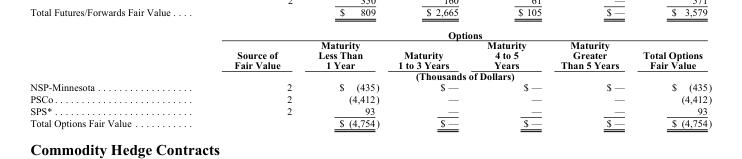table: (29, 28, 711, 127)
table column: (29, 28, 182, 127), (182, 28, 304, 127), (387, 28, 471, 127), (304, 28, 387, 127), (550, 28, 633, 127), (471, 28, 550, 127), (633, 28, 711, 127)
table column header: (29, 28, 711, 81)
table row: (29, 39, 711, 70), (29, 92, 711, 104), (29, 104, 711, 116), (29, 28, 711, 39), (29, 70, 711, 81), (29, 81, 711, 92), (29, 116, 711, 127)
table spanning cell: (182, 28, 711, 39), (182, 70, 711, 81)
